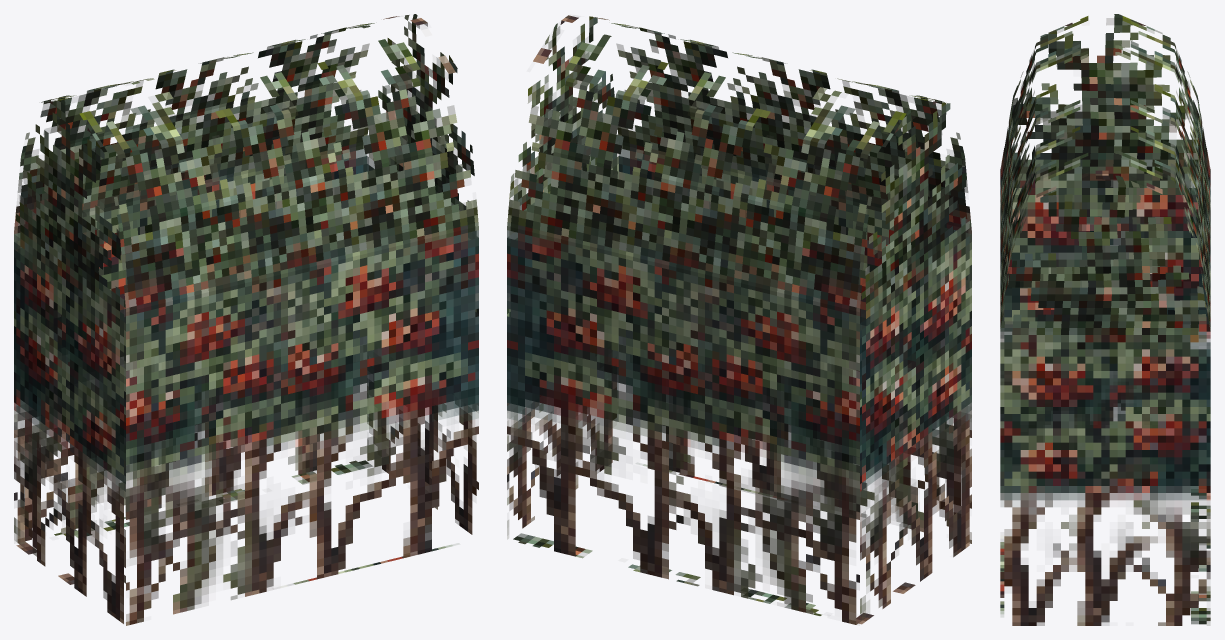
Rendered from orapihlaja.glb.
The picture shows the model from 3 angles, left to right: view 1: azimuth 30°, elevation 25°; view 2: azimuth 150°, elevation 25°; view 3: azimuth 270°, elevation 25°; orthographic projection. The views are drawn at different scales.
Parts seen in each view (by area): view 1: orapihlaja; view 2: orapihlaja; view 3: orapihlaja.
Part boxes in pixels (x1,y1,x2,y2): orapihlaja: [14, 14, 478, 625]; orapihlaja: [507, 15, 971, 624]; orapihlaja: [1000, 14, 1210, 625].
Bounding box in the file's own units: 2 × 2.6 × 1.1.
Materials: 1 (1 with a texture image).
